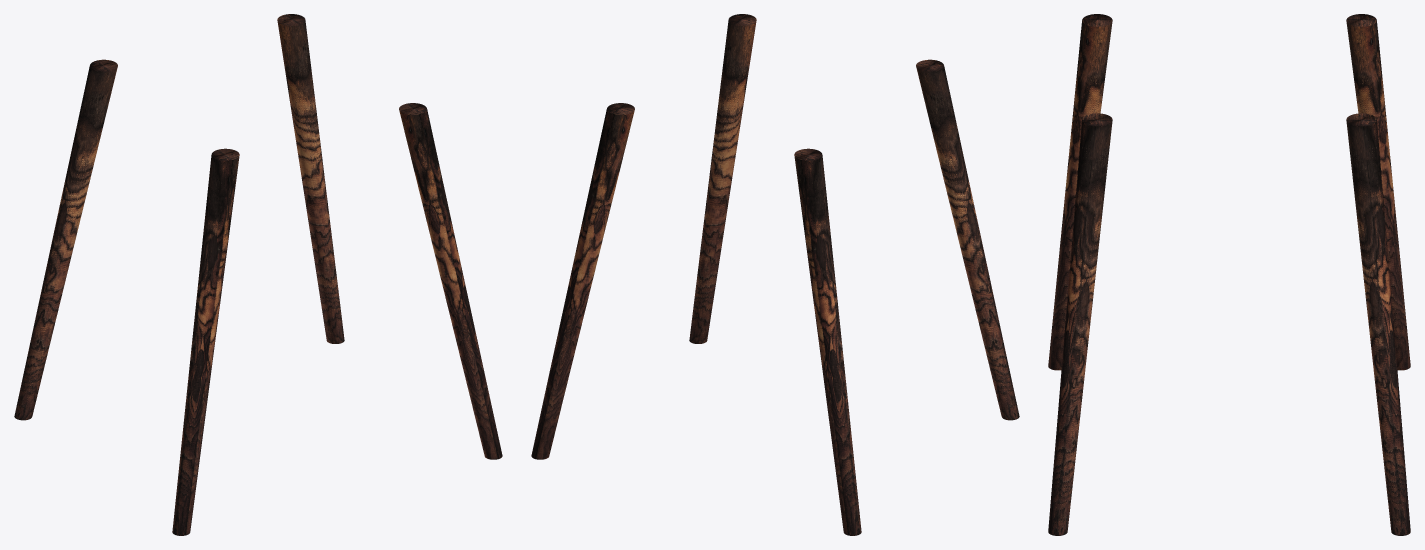
Rendered from Stoel_Legs.fbx.
3 views of the same model, side by side, from view 1: azimuth 30°, elevation 25°; view 2: azimuth 150°, elevation 25°; view 3: azimuth 270°, elevation 25° (orthographic). The views are drawn at different scales.
Parts seen in each view (by area): view 1: Cylinder.001; view 2: Cylinder.001; view 3: Cylinder.001.
Part boxes in pixels (<box>): Cylinder.001: <box>14,14,502,535</box>; Cylinder.001: <box>531,14,1019,535</box>; Cylinder.001: <box>1048,14,1410,535</box>.
Size of the model in its own units: 87.12 by 88.62 by 76.84.
